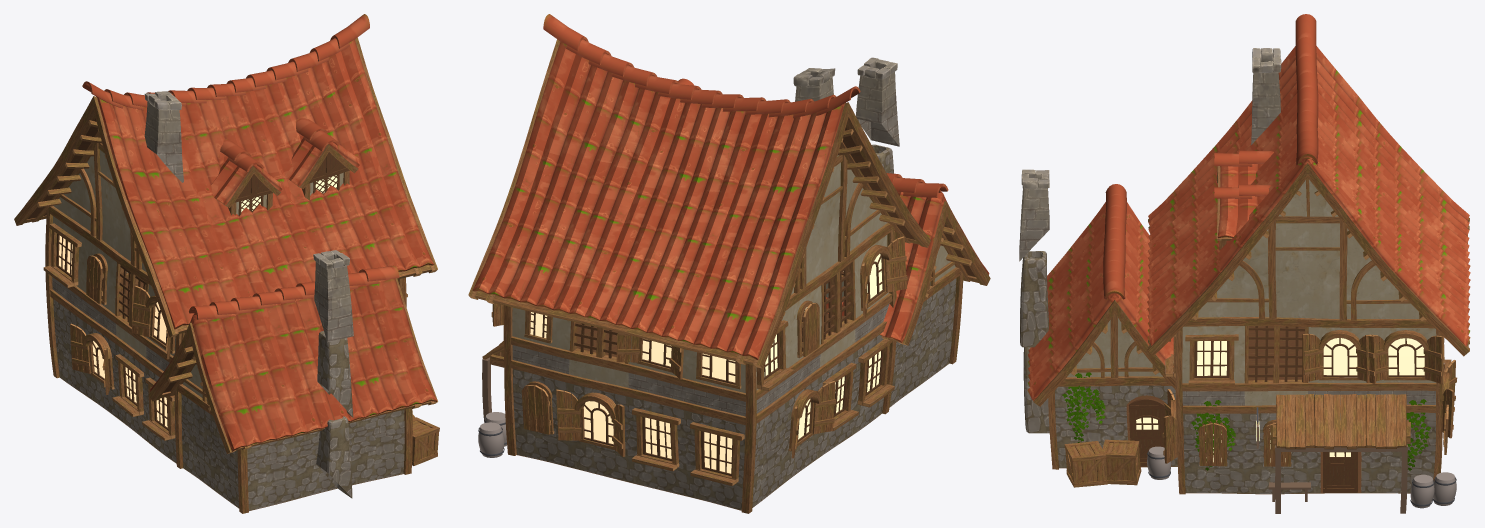
Rendered from a1_guild_tavern.gltf.
3 views of the same model, side by side, from view 1: azimuth 30°, elevation 25°; view 2: azimuth 150°, elevation 25°; view 3: azimuth 270°, elevation 25° (orthographic). The views are drawn at different scales.
Visible parts, largest first — view 1: A1_tavern; view 2: A1_tavern; view 3: A1_tavern.
Part boxes in pixels (x1,y1,x2,y2): A1_tavern: (14,14,439,513); A1_tavern: (468,14,990,513); A1_tavern: (1019,14,1470,513).
Size of what is drawn, in the model's own units: 10.92 by 12.48 by 14.28.
61 materials, 56 textured.
